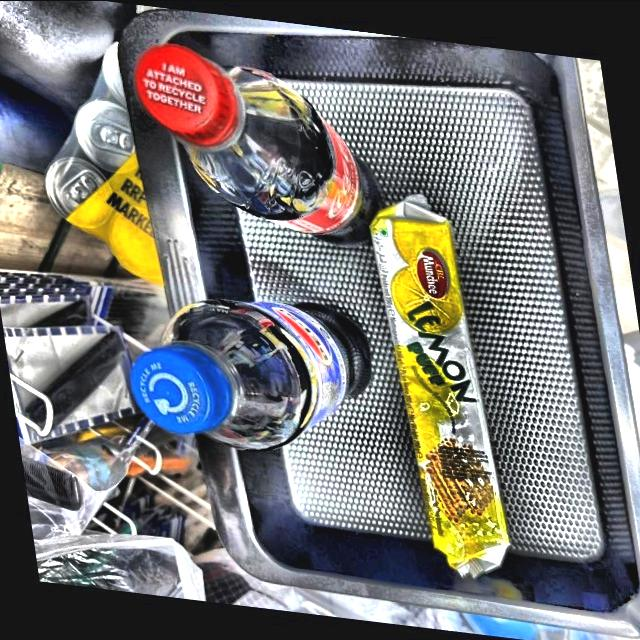coke-bottle: (134, 34, 376, 252)
lemon puff: (369, 193, 515, 578)
pepsi-bottle: (138, 299, 372, 443)
